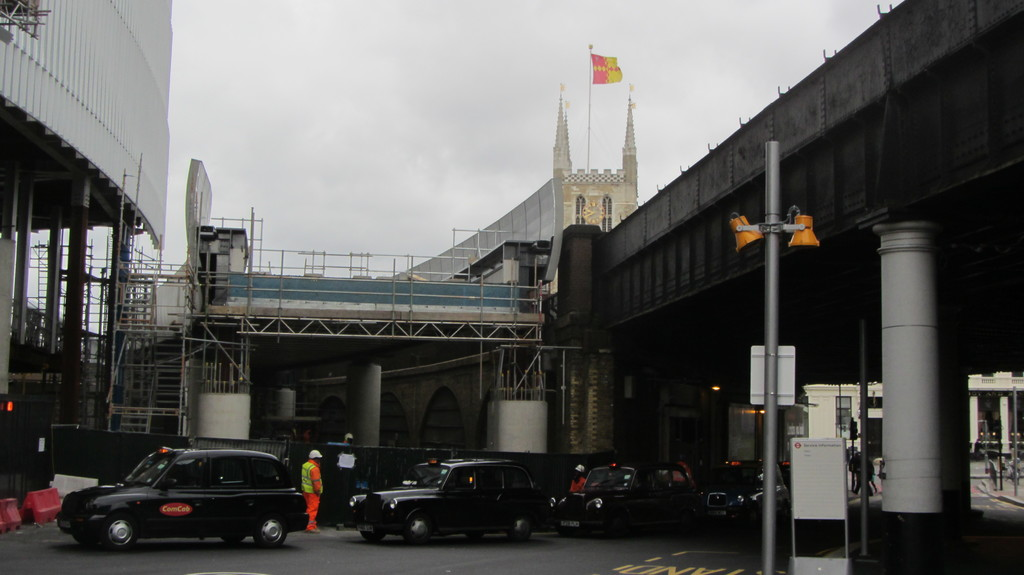mobil: (53, 447, 306, 561), (353, 452, 545, 561)
